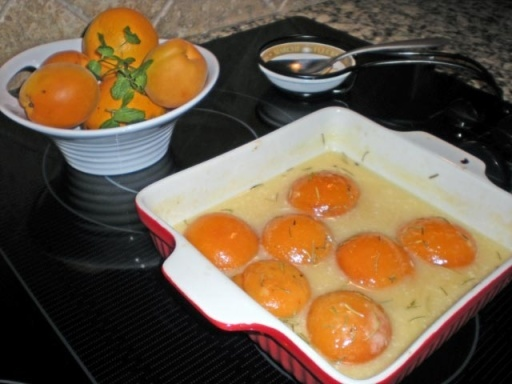background: (138, 91, 409, 229), (15, 4, 167, 77)
